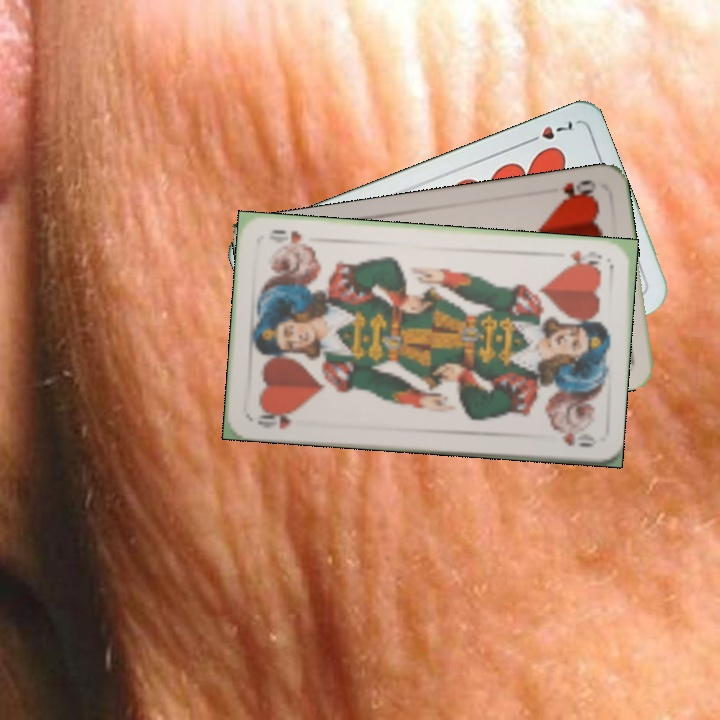H7: (521, 117, 576, 147)
HO: (558, 175, 599, 204), (253, 406, 295, 432), (563, 246, 604, 271)
